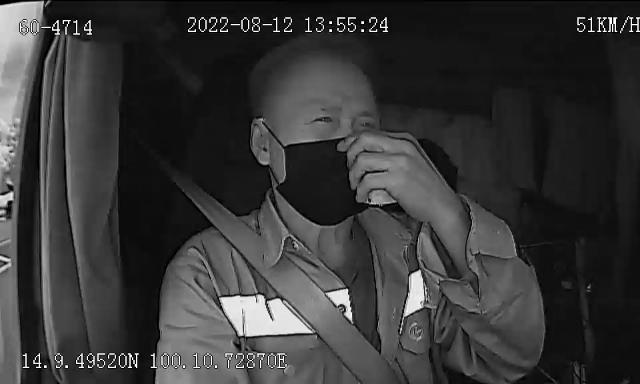SafeDriving: (302, 107, 340, 128)
Seatbelt: (181, 188, 403, 384)
